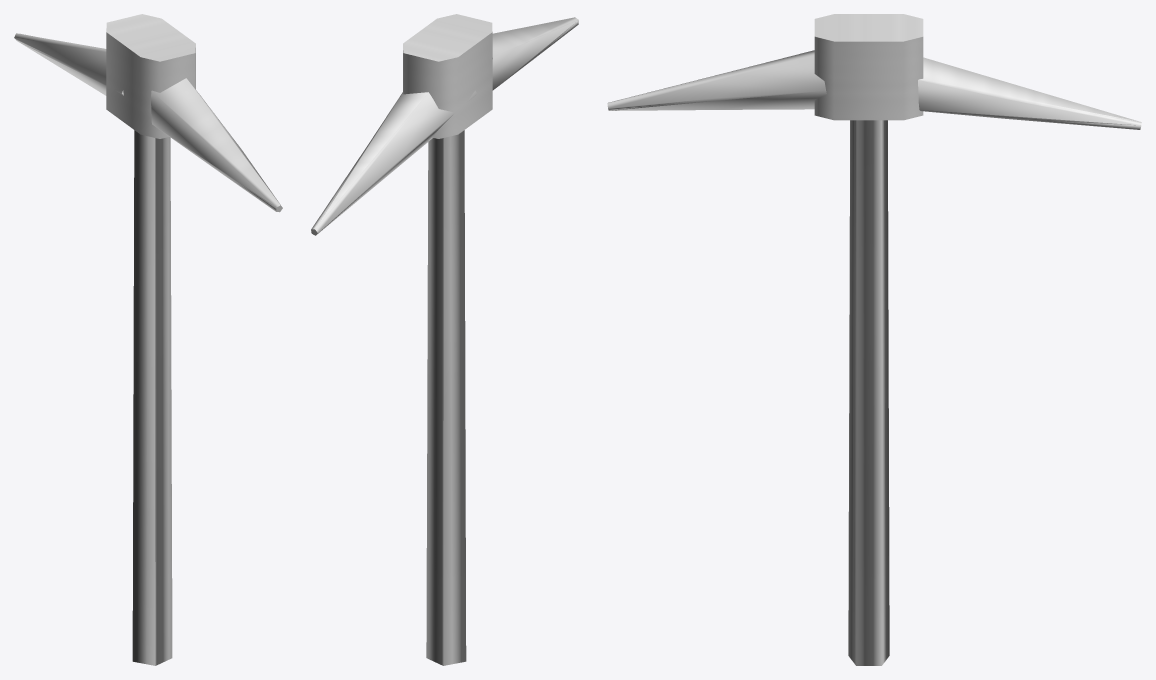
The model's file is tool_pickaxe.obj.
The picture shows the model from 3 angles, left to right: view 1: azimuth 30°, elevation 25°; view 2: azimuth 150°, elevation 25°; view 3: azimuth 270°, elevation 25°; orthographic projection.
Visible parts, largest first — view 1: source_component_00, source_component_03, source_component_01, source_component_02; view 2: source_component_00, source_component_03, source_component_02, source_component_01; view 3: source_component_00, source_component_03, source_component_01, source_component_02.
Part boxes in pixels (x1,y1,x2,y2): source_component_00: (132, 130, 172, 665); source_component_03: (106, 14, 195, 138); source_component_01: (151, 78, 282, 212); source_component_02: (14, 33, 123, 95); source_component_00: (426, 130, 466, 665); source_component_03: (403, 14, 492, 138); source_component_02: (311, 90, 477, 235); source_component_01: (492, 17, 578, 90); source_component_00: (848, 120, 889, 665); source_component_03: (814, 14, 923, 120); source_component_01: (607, 50, 826, 110); source_component_02: (918, 57, 1141, 129).
Bounding box in the file's own units: 0.062 × 0.64 × 0.4913.
